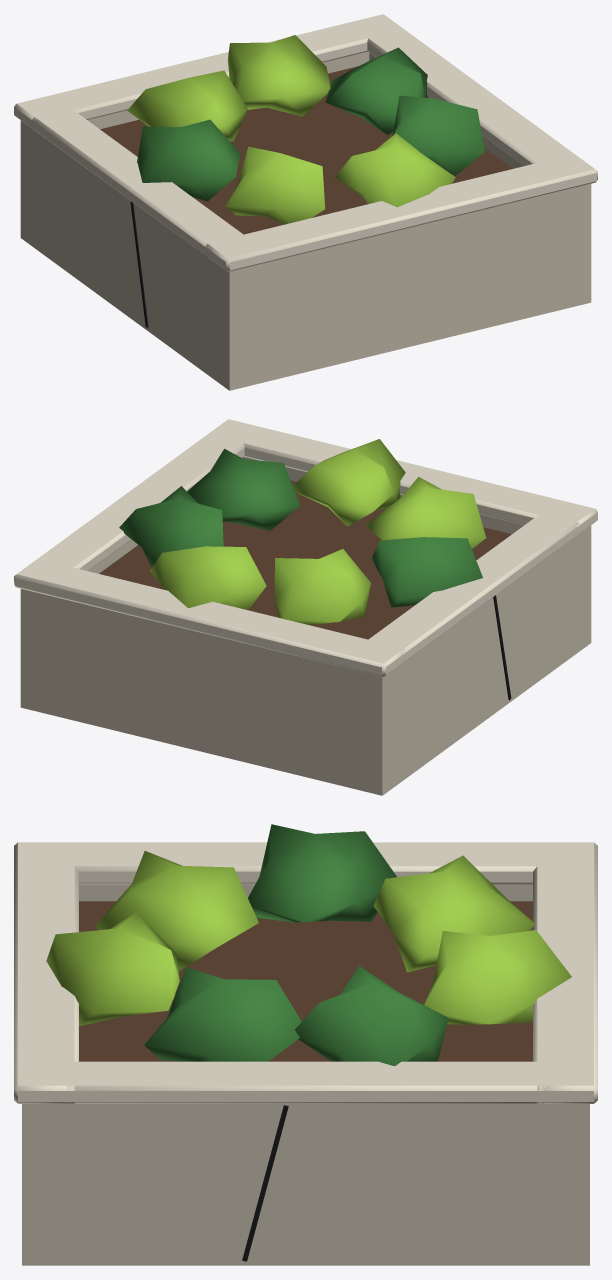
Rendered from planter.glb.
3 renders of one model, top to bottom at view 1: azimuth 30°, elevation 25°; view 2: azimuth 150°, elevation 25°; view 3: azimuth 270°, elevation 25°, orthographic. The views are drawn at different scales.
Visible parts, largest first — view 1: box, shrubs; view 2: box, shrubs; view 3: box, shrubs.
Boxes of the visible parts, x1,y1,x2,y2 form: box: (14, 14, 597, 390); shrubs: (127, 35, 484, 224); box: (14, 419, 597, 795); shrubs: (119, 439, 486, 625); box: (14, 842, 597, 1265); shrubs: (46, 824, 571, 1065).
Size of the model in its own units: 1.44 by 0.6298 by 1.44.
